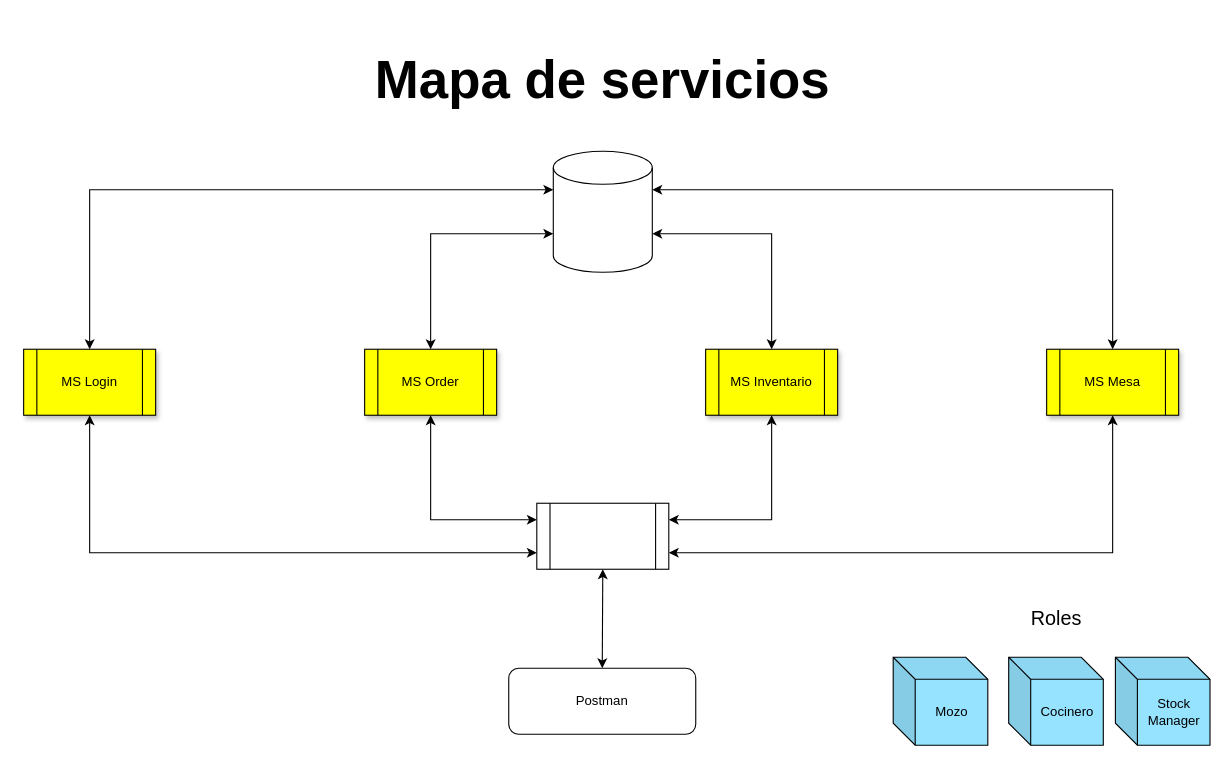
Some shapes in this 1230 by 765 pixel diagram are drawn without their labels. Here are the shapes that lost their labels. From the top down, the centre of each, then its label:
At [602,211]: "MySQL".
At [602,535]: "API GATEWAY LOGIN".
